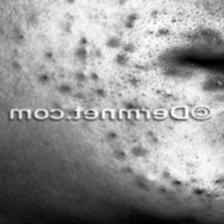Non-Cancerous Skin Condition: (104, 130, 224, 224), (57, 83, 78, 91), (208, 80, 223, 90), (96, 86, 105, 95), (92, 72, 102, 80), (125, 102, 135, 110)
